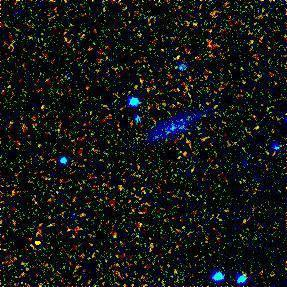star: (22, 229, 52, 259)
